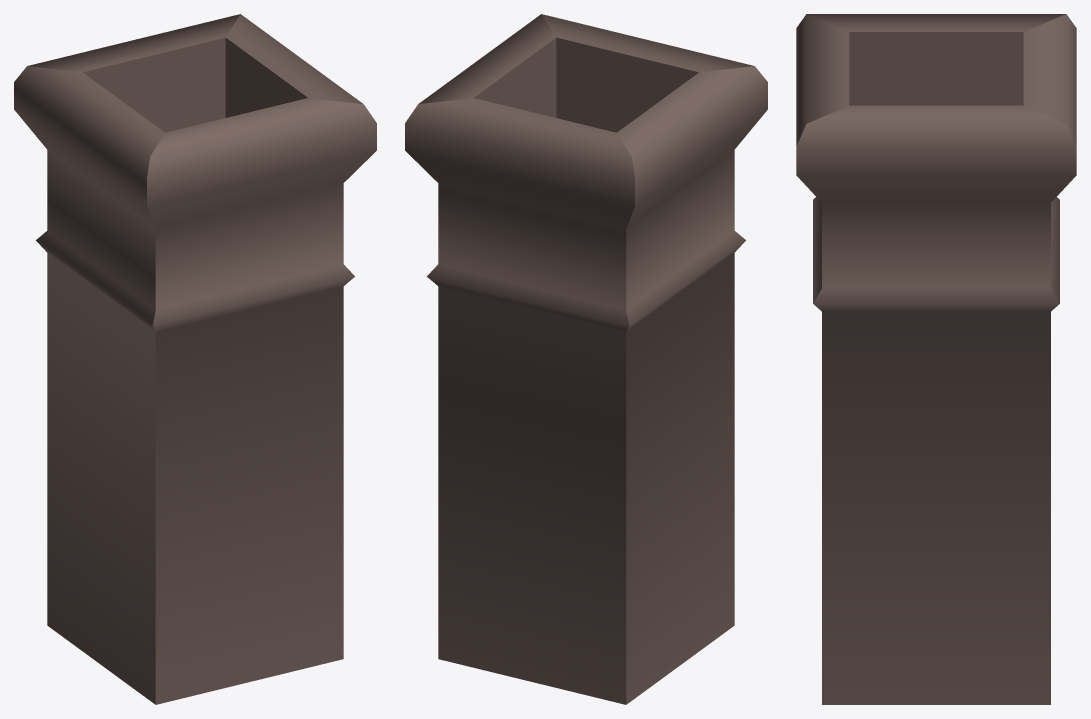
File: Building_pipe_04.fbx
3 views of the same model, side by side, from view 1: azimuth 30°, elevation 25°; view 2: azimuth 150°, elevation 25°; view 3: azimuth 270°, elevation 25° (orthographic). The views are drawn at different scales.
Visible parts, largest first — view 1: Building_pipe_04; view 2: Building_pipe_04; view 3: Building_pipe_04.
Boxes of the visible parts, bbox=[...] form: Building_pipe_04: bbox=[14, 14, 376, 704]; Building_pipe_04: bbox=[405, 14, 767, 704]; Building_pipe_04: bbox=[796, 14, 1076, 704].
Bounding box in the file's own units: 0.6648 × 1.54 × 0.6648.
